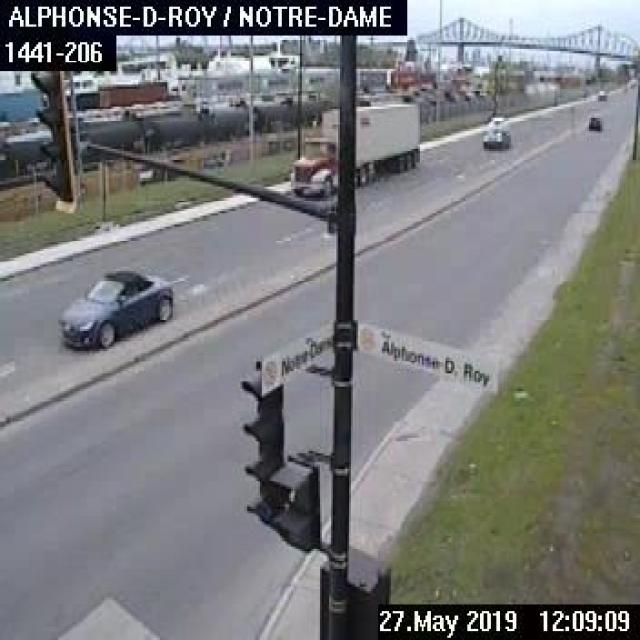vehicle: (285, 100, 421, 198), (56, 265, 172, 351), (480, 128, 509, 146), (484, 116, 510, 130), (586, 113, 600, 129), (594, 86, 606, 98)
